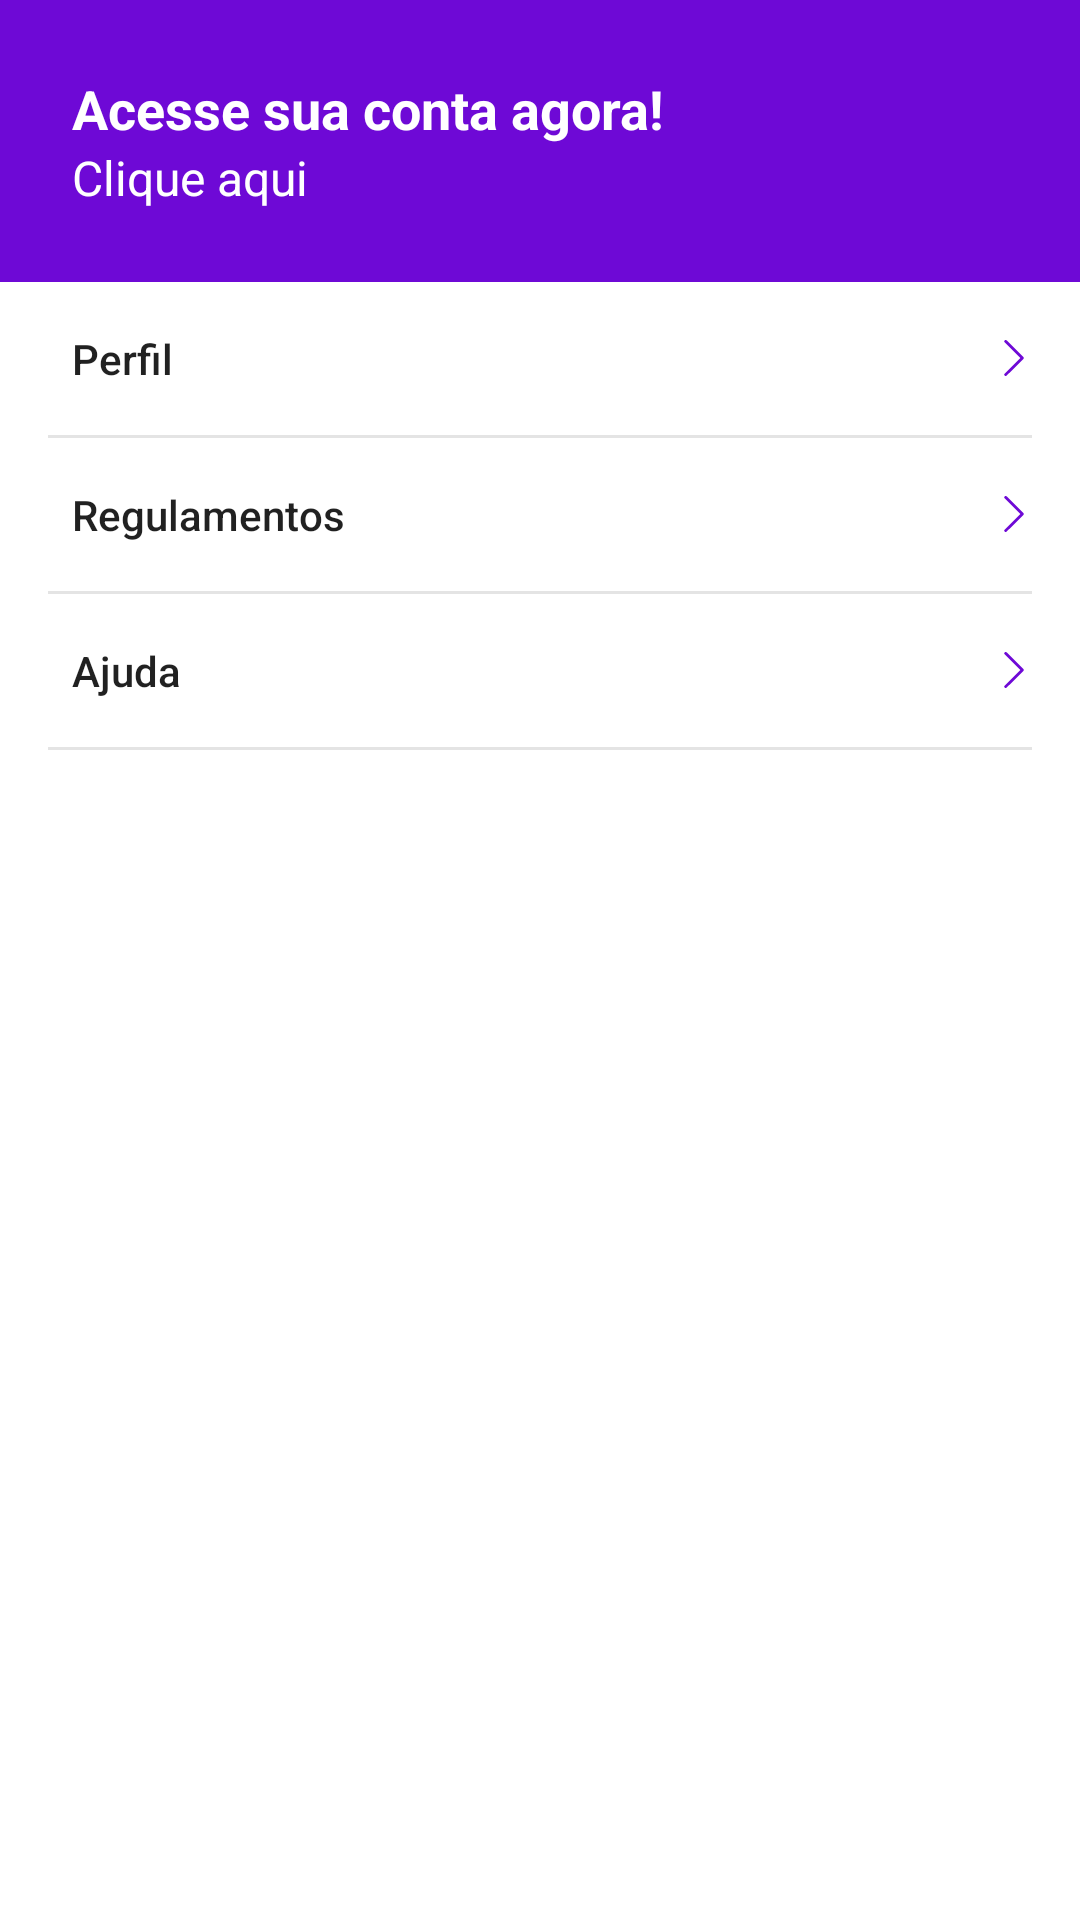

Locate icon controls on the screen. Image size 1080w x 1920h, boxes as [left=x1, top=y1, right=x2, bottom=y2].
seta direita: [left=1004, top=340, right=1024, bottom=376], [left=1004, top=496, right=1024, bottom=532], [left=1004, top=652, right=1024, bottom=688]
